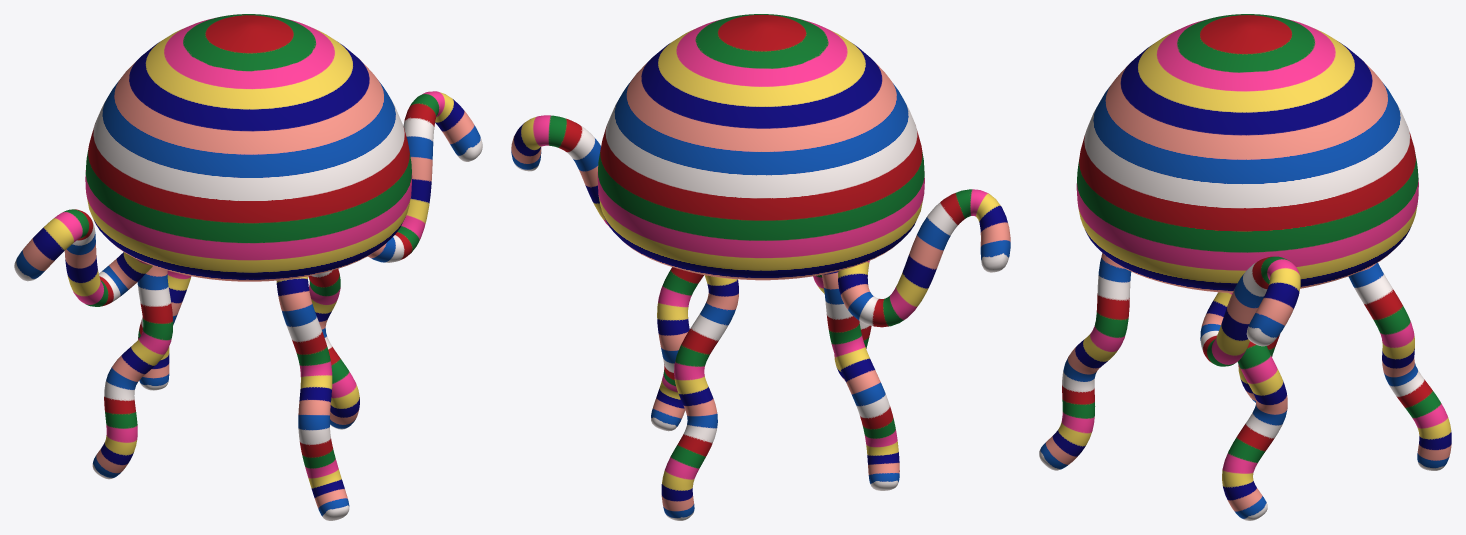
File: C-9_Onstick.fbx
3 renders of one model, left to right at view 1: azimuth 30°, elevation 25°; view 2: azimuth 150°, elevation 25°; view 3: azimuth 270°, elevation 25°, orthographic. The views are drawn at different scales.
Parts seen in each view (by area): view 1: C-9; view 2: C-9; view 3: C-9.
Boxes of the visible parts, left/top/right/bottom form: C-9: left=14, top=14, right=482, bottom=520; C-9: left=511, top=14, right=1010, bottom=520; C-9: left=1039, top=14, right=1451, bottom=520.
Bounding box in the file's own units: 136 × 97.47 × 116.
